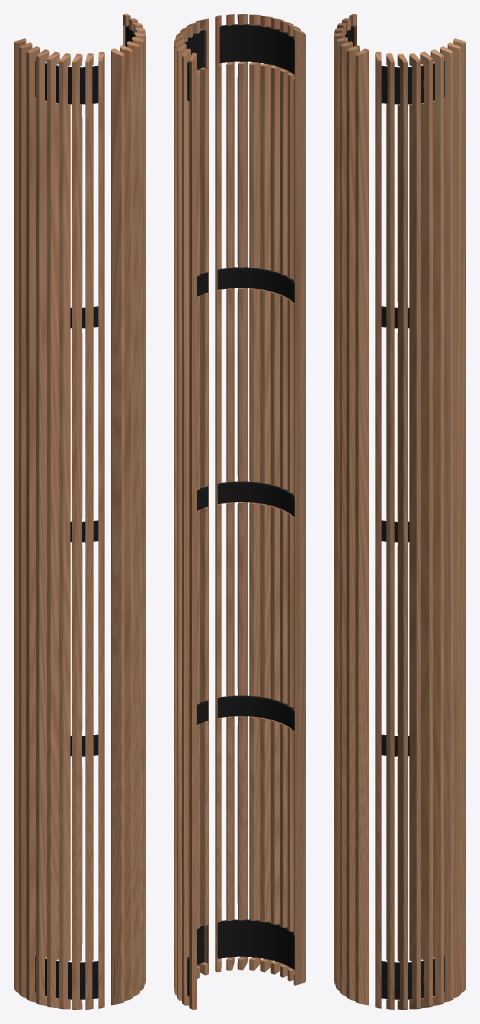
File: Beolab-28-Wood-Grill.glb
3 renders of one model, left to right at view 1: azimuth 30°, elevation 25°; view 2: azimuth 210°, elevation 25°; view 3: azimuth 330°, elevation 25°, orthographic.
Visible parts, largest first — view 1: 2_n3d, 1_n3d, 19_n3d; view 2: 2_n3d, 1_n3d, 19_n3d; view 3: 2_n3d, 1_n3d, 19_n3d.
Boxes of the visible parts, bbox=[...] form: 2_n3d: bbox=[14, 14, 145, 1009]; 1_n3d: bbox=[98, 48, 124, 1008]; 19_n3d: bbox=[35, 26, 134, 999]; 2_n3d: bbox=[174, 14, 305, 1009]; 1_n3d: bbox=[195, 15, 221, 975]; 19_n3d: bbox=[185, 24, 294, 996]; 2_n3d: bbox=[334, 14, 465, 1009]; 1_n3d: bbox=[355, 48, 381, 1008]; 19_n3d: bbox=[345, 26, 444, 999].
Bounding box in the file's own units: 1.2 × 9.38 × 0.7276.
Materials: 2 (1 with a texture image).
